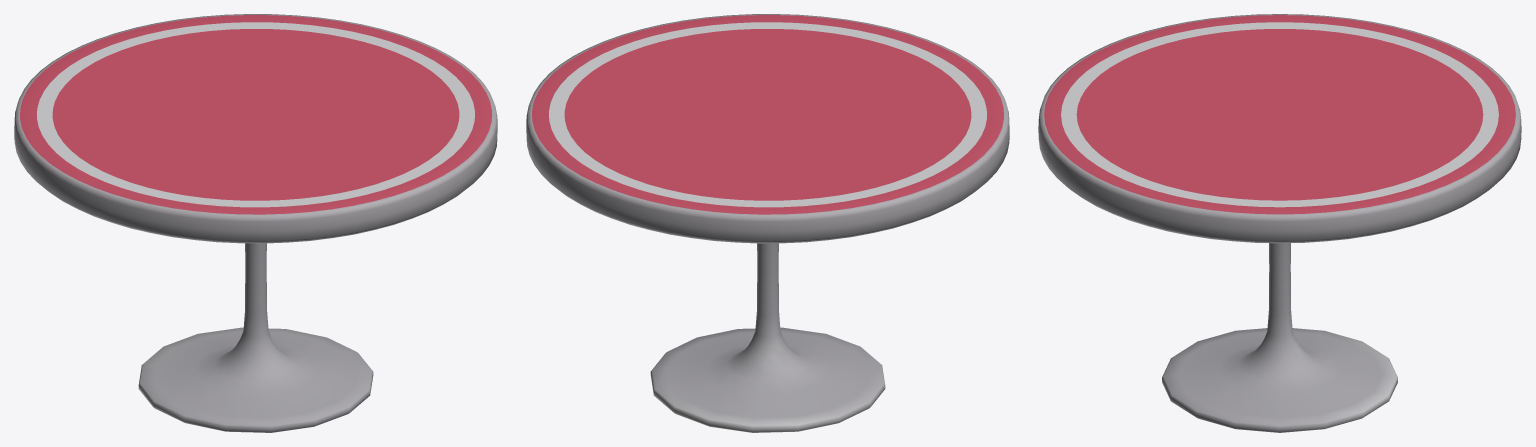
Rendered from SM_roundtable.fbx.
3 renders of one model, left to right at view 1: azimuth 30°, elevation 25°; view 2: azimuth 150°, elevation 25°; view 3: azimuth 270°, elevation 25°, orthographic.
Visible parts, largest first — view 1: Plane.008; view 2: Plane.008; view 3: Plane.008.
Boxes of the visible parts, <box> form: Plane.008: <box>14,14,497,432</box>; Plane.008: <box>526,14,1009,432</box>; Plane.008: <box>1038,14,1521,432</box>.
Bounding box in the file's own units: 122 × 75.2 × 122.
